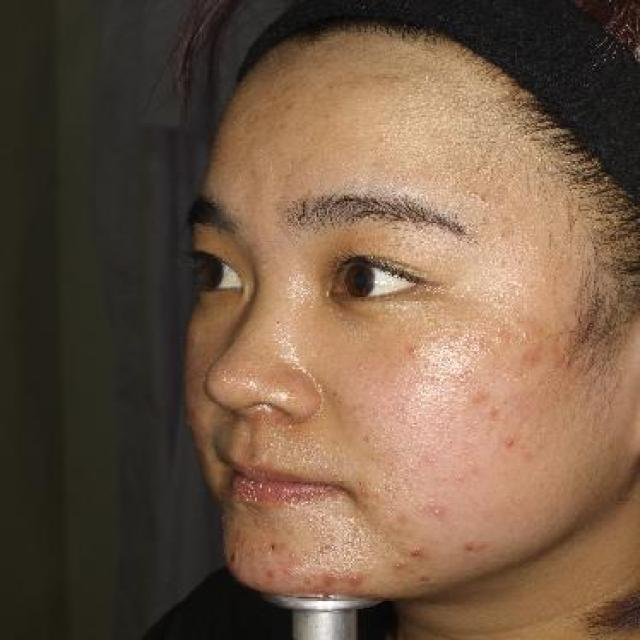papules: (402, 539, 433, 566)
